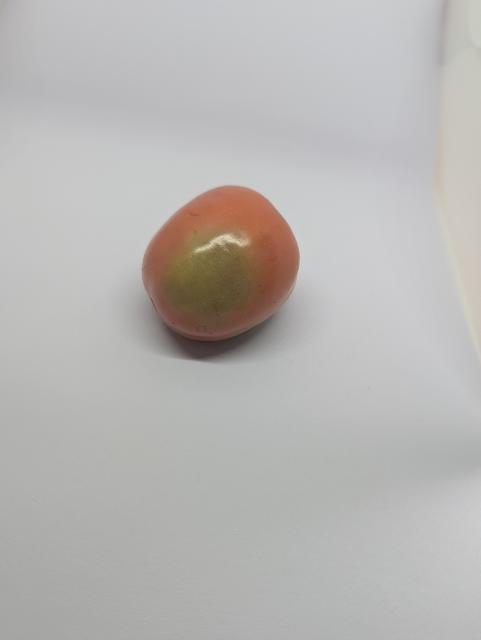turning: (136, 178, 312, 347)
